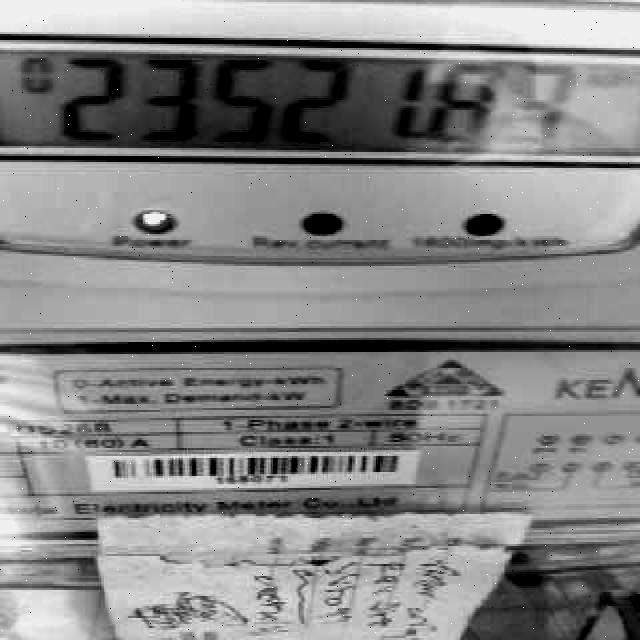LCD: (10, 33, 640, 169)
